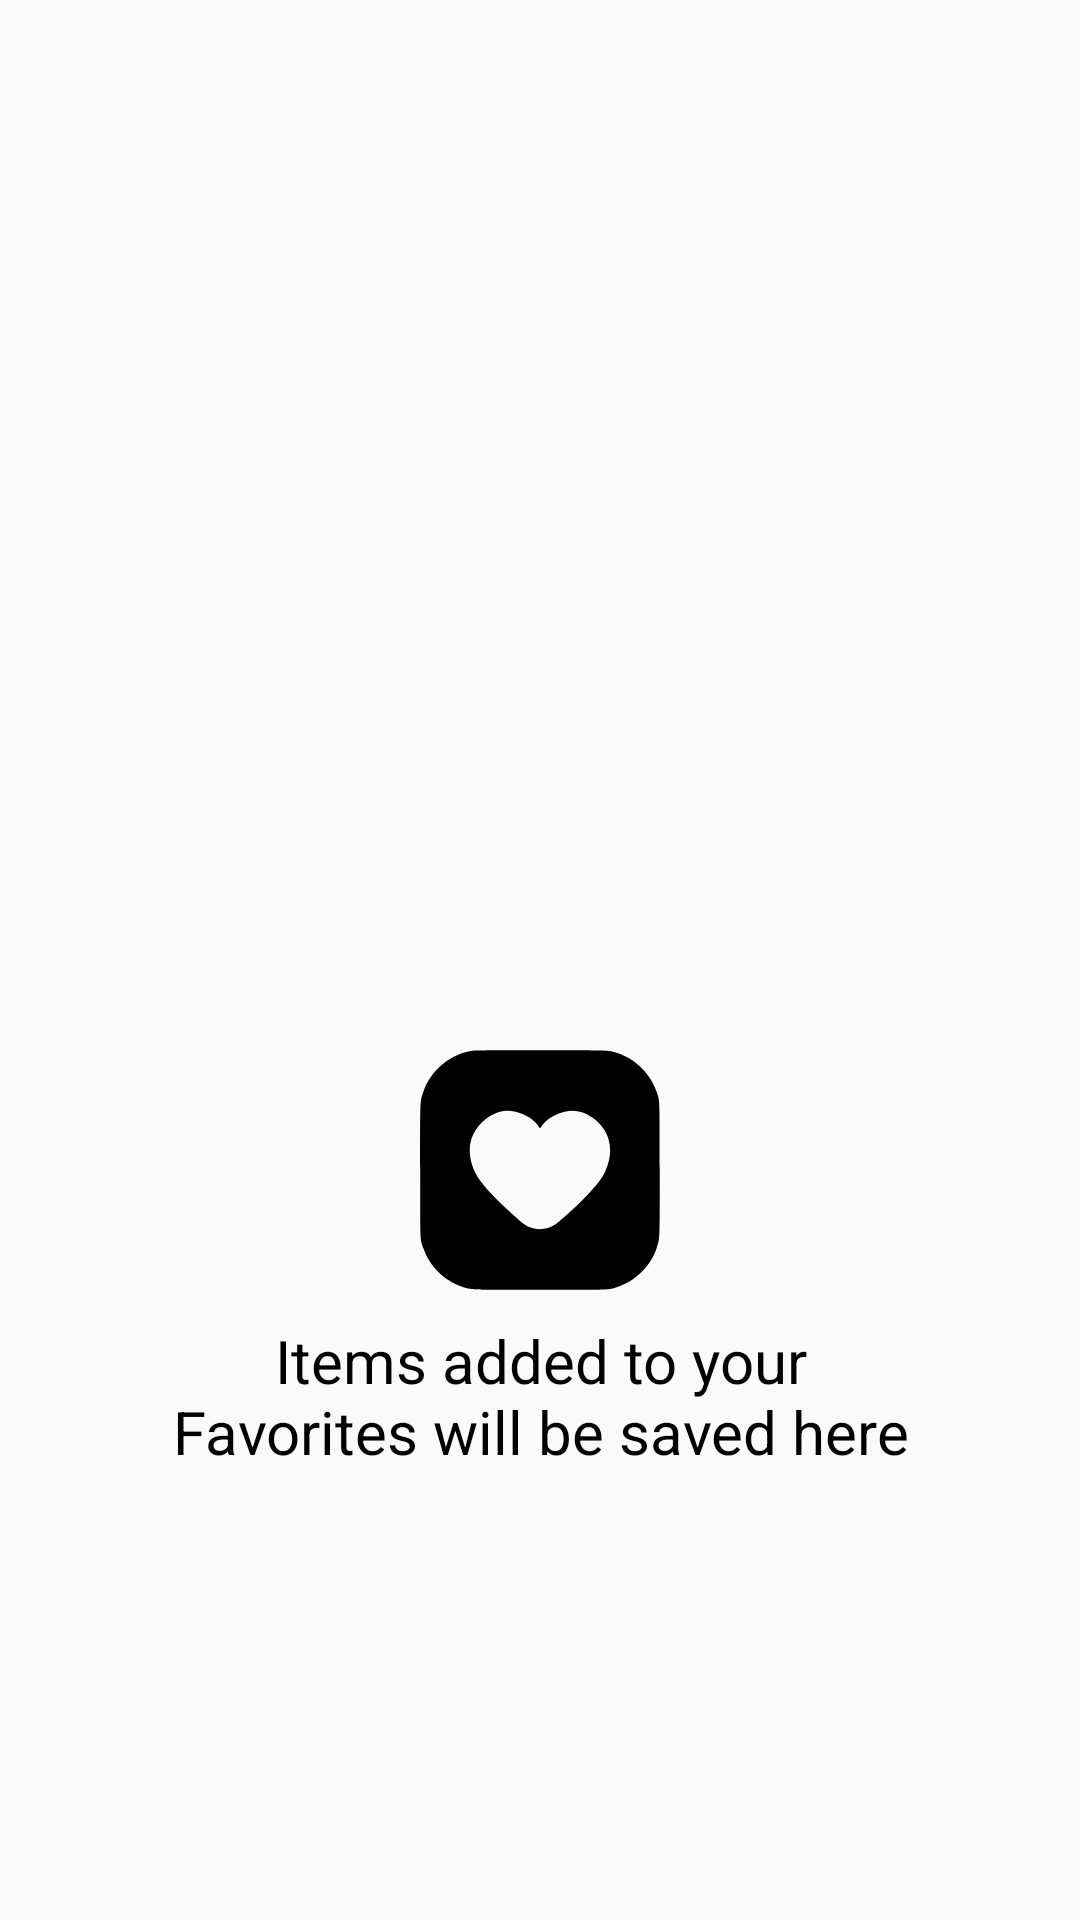

Icon click points for this 1080px x 1920px phone screenshot, format (x=x, y=y):
love: (x=540, y=1170)
